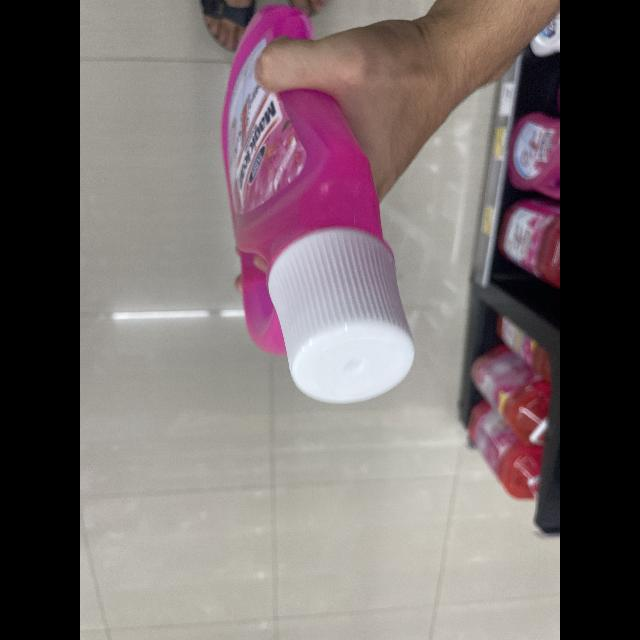chemical_plastic_gallon: (216, 4, 426, 408)
